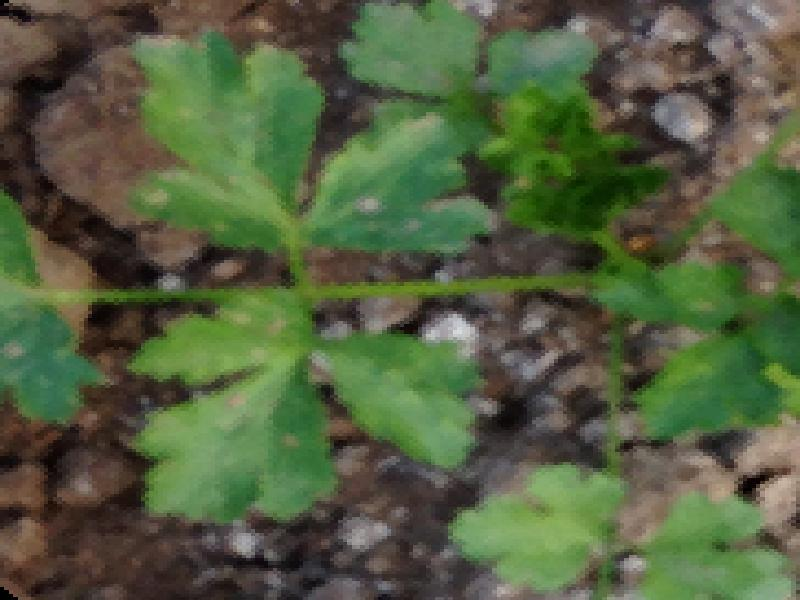radish: (0, 21, 800, 584)
